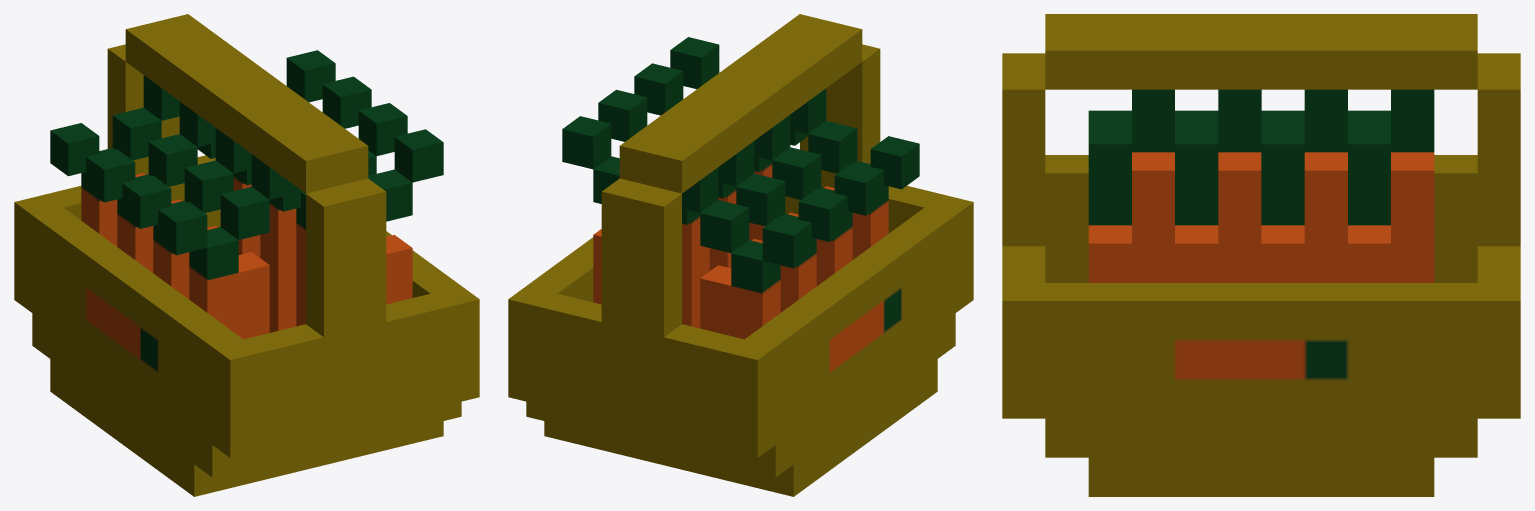
File: chapter2_carrotbasket.fbx
3 renders of one model, left to right at view 1: azimuth 30°, elevation 25°; view 2: azimuth 150°, elevation 25°; view 3: azimuth 270°, elevation 25°, orthographic. The views are drawn at different scales.
Parts seen in each view (by area): view 1: Union; view 2: Union; view 3: Union.
Part boxes in pixels (left/top/right/bottom): Union: left=14, top=14, right=479, bottom=496; Union: left=508, top=14, right=973, bottom=496; Union: left=1002, top=14, right=1520, bottom=496.
Bounding box in the file's own units: 8 × 10 × 12.
